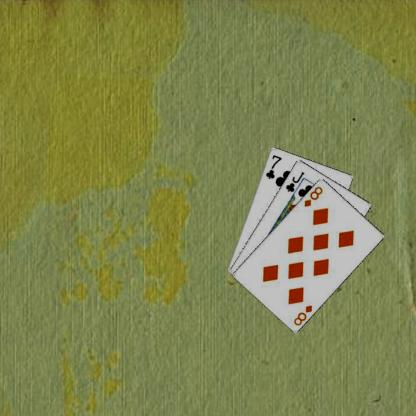7C: (263, 152, 283, 180)
8D: (301, 183, 324, 208), (291, 302, 313, 326)
JC: (283, 169, 306, 193)
